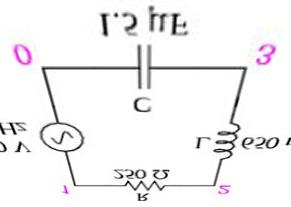inductor: (214, 108, 241, 166)
